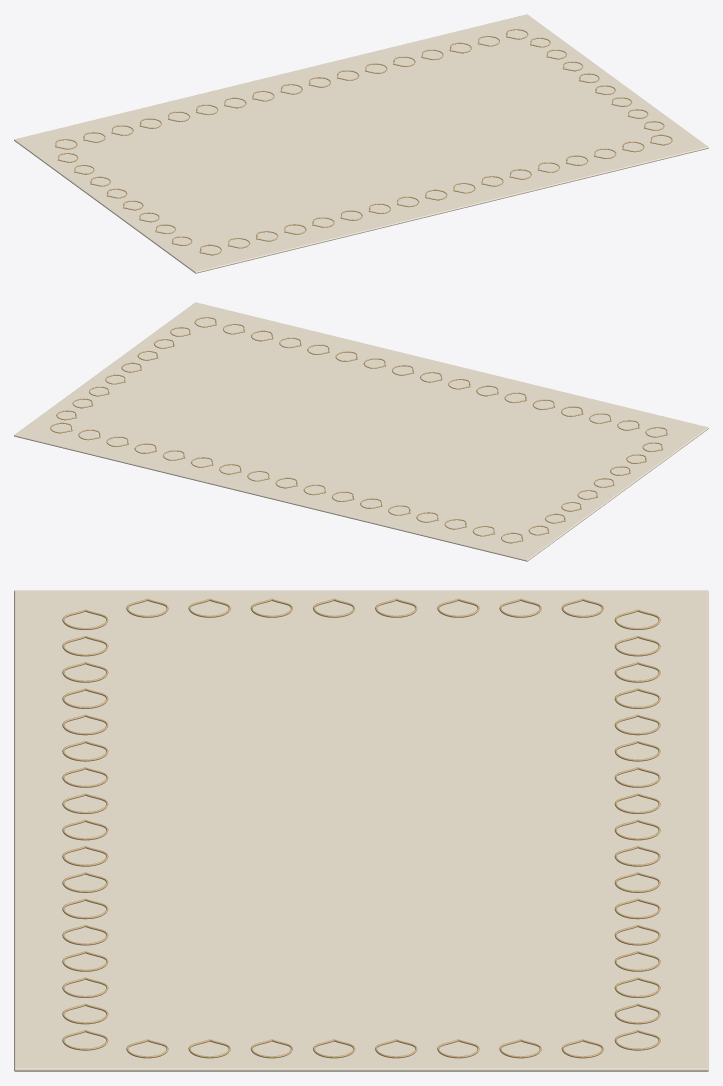
Rendered from LefkaraCloth.fbx.
3 views of the same model, one above another, from view 1: azimuth 30°, elevation 25°; view 2: azimuth 150°, elevation 25°; view 3: azimuth 270°, elevation 25° (orthographic). The views are drawn at different scales.
Visible parts, largest first — view 1: Surface_KKTC_WarmWhite, Surface_KKTC_Webbing; view 2: Surface_KKTC_WarmWhite, Surface_KKTC_Webbing; view 3: Surface_KKTC_WarmWhite, Surface_KKTC_Webbing.
Boxes of the visible parts, left/top/right/bottom form: Surface_KKTC_WarmWhite: left=14, top=14, right=708, bottom=273; Surface_KKTC_Webbing: left=55, top=29, right=672, bottom=255; Surface_KKTC_WarmWhite: left=14, top=302, right=708, bottom=561; Surface_KKTC_Webbing: left=50, top=317, right=667, bottom=543; Surface_KKTC_WarmWhite: left=14, top=590, right=708, bottom=1071; Surface_KKTC_Webbing: left=62, top=598, right=660, bottom=1058.
Size of the model in its own units: 62 by 0.302 by 38.
